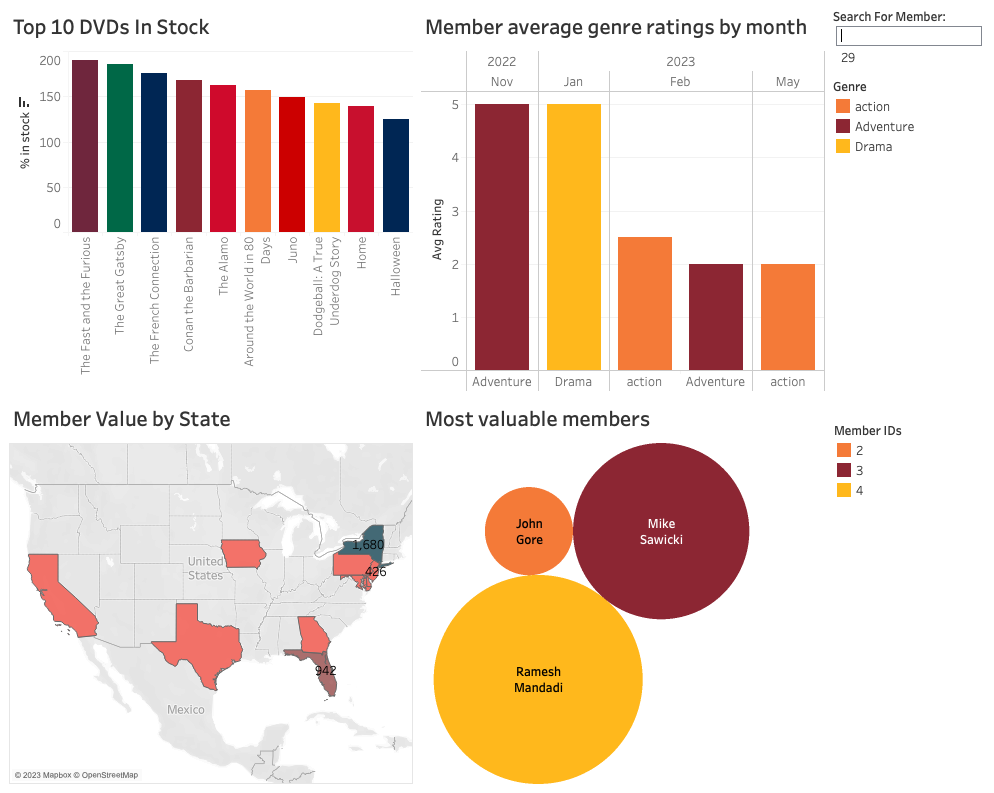

This screenshot's page, from the dashboard's own definition file:
{"tool":"tableau","page":{"name":"Dashboard 1","canvas":[1000,800],"ordinal":0},"visuals":[{"type":"worksheet","title":"Sheet 1","mark":"Automatic","rows":["DVDPERCENTAGESTOCK"],"cols":["DVDTITLE"],"box":[8,8,412,392]},{"type":"worksheet","title":"Sheet 2","mark":"Automatic","rows":["AVG_RATING"],"cols":["MEMBERID (DIM_MEMBERS)","YEAR","MONTH","GENRENAME"],"box":[420,8,412,392]},{"type":"filter","title":"Sheet 2","param":"[federated.0n01cc60f3xg4z1g0th5u0bd2r30].[none:MEMBERID (DIM_MEMBERS):ok]","box":[832,8,160,70]},{"type":"legend","title":"Sheet 2","param":"[federated.0n01cc60f3xg4z1g0th5u0bd2r30].[none:GENRENAME:nk]","box":[832,78,160,86]},{"type":"worksheet","title":"Sheet 3","mark":"Automatic","box":[8,400,412,392]},{"type":"worksheet","title":"Sheet 4","mark":"Circle","box":[420,400,412,392]},{"type":"legend","title":"Sheet 4","param":"[federated.0jr0p4j1vu6bsd12w0ov40rfdinu].[none:MEMBERID (DIM_MEMBERS):ok]","box":[837,426,140,78]}]}

Visuals, with their boxes in screenshot pixels (x1, y1, x2, y2), scaled from the page's 1000x800 canvas onto the 994x793 screenshot:
"Sheet 1" worksheet: pyautogui.locateOnScreen(8, 8, 417, 396)
"Sheet 2" worksheet: pyautogui.locateOnScreen(417, 8, 827, 396)
"Sheet 2" filter: pyautogui.locateOnScreen(827, 8, 986, 77)
"Sheet 2" legend: pyautogui.locateOnScreen(827, 77, 986, 163)
"Sheet 3" worksheet: pyautogui.locateOnScreen(8, 396, 417, 785)
"Sheet 4" worksheet (Circle marks): pyautogui.locateOnScreen(417, 396, 827, 785)
"Sheet 4" legend: pyautogui.locateOnScreen(832, 422, 971, 500)
